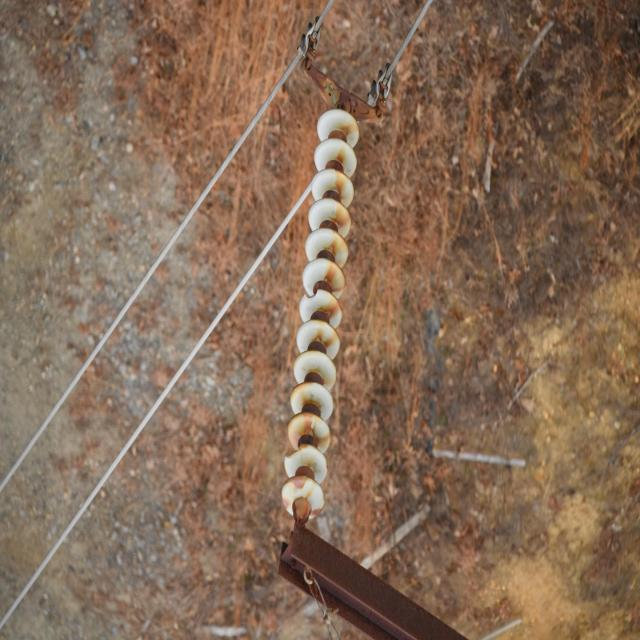broken: (302, 284, 320, 302), (285, 444, 303, 461)
insulator: (280, 107, 360, 517)
